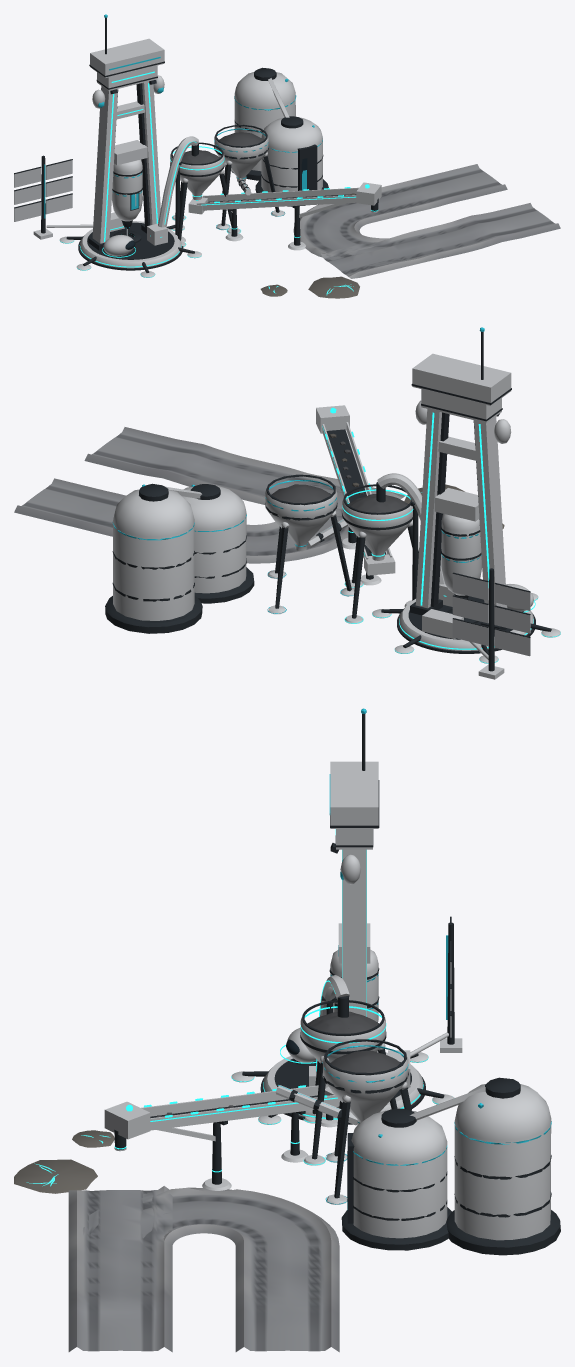
The model's file is mine_ef45f6f1.glb.
3 renders of one model, top to bottom at view 1: azimuth 30°, elevation 25°; view 2: azimuth 150°, elevation 25°; view 3: azimuth 270°, elevation 25°, orthographic. The views are drawn at different scales.
Parts seen in each view (by area): view 1: Base_Paint, Silo, Tier_12, Tier_08, Tier_05, Tier_20, Rig, Base_GlowCyan, Deposit_01; view 2: Base_Paint, Tier_12, Silo, Tier_08, Tier_05, Tier_20, Rig, Base_GlowCyan; view 3: Base_Paint, Tier_12, Silo, Tier_05, Tier_20, Deposit_01, Tier_08, Base_GlowCyan, Rig.
Part boxes in pixels (x1,y1,x2,y2): Base_Paint: (59, 65, 560, 278); Silo: (255, 116, 328, 206); Tier_12: (231, 67, 296, 180); Tier_08: (14, 155, 93, 239); Tier_05: (214, 124, 285, 230); Tier_20: (89, 14, 164, 108); Rig: (112, 140, 147, 235); Base_GlowCyan: (60, 71, 377, 277); Deposit_01: (308, 276, 359, 298); Base_Paint: (14, 389, 560, 663); Tier_12: (105, 483, 202, 633); Silo: (182, 484, 254, 603); Tier_08: (452, 568, 530, 679); Tier_05: (265, 474, 354, 614); Tier_20: (411, 327, 511, 443); Rig: (434, 488, 482, 598); Base_GlowCyan: (322, 412, 560, 663); Base_Paint: (68, 829, 454, 1352); Tier_12: (410, 1077, 560, 1255); Silo: (341, 1108, 451, 1250); Tier_05: (275, 1039, 411, 1204); Tier_20: (329, 708, 379, 884); Deposit_01: (14, 1159, 97, 1193); Tier_08: (410, 916, 462, 1057); Base_GlowCyan: (114, 829, 438, 1172); Rig: (329, 923, 379, 1022).
Size of the model in its own units: 41.55 by 21.92 by 29.46.
